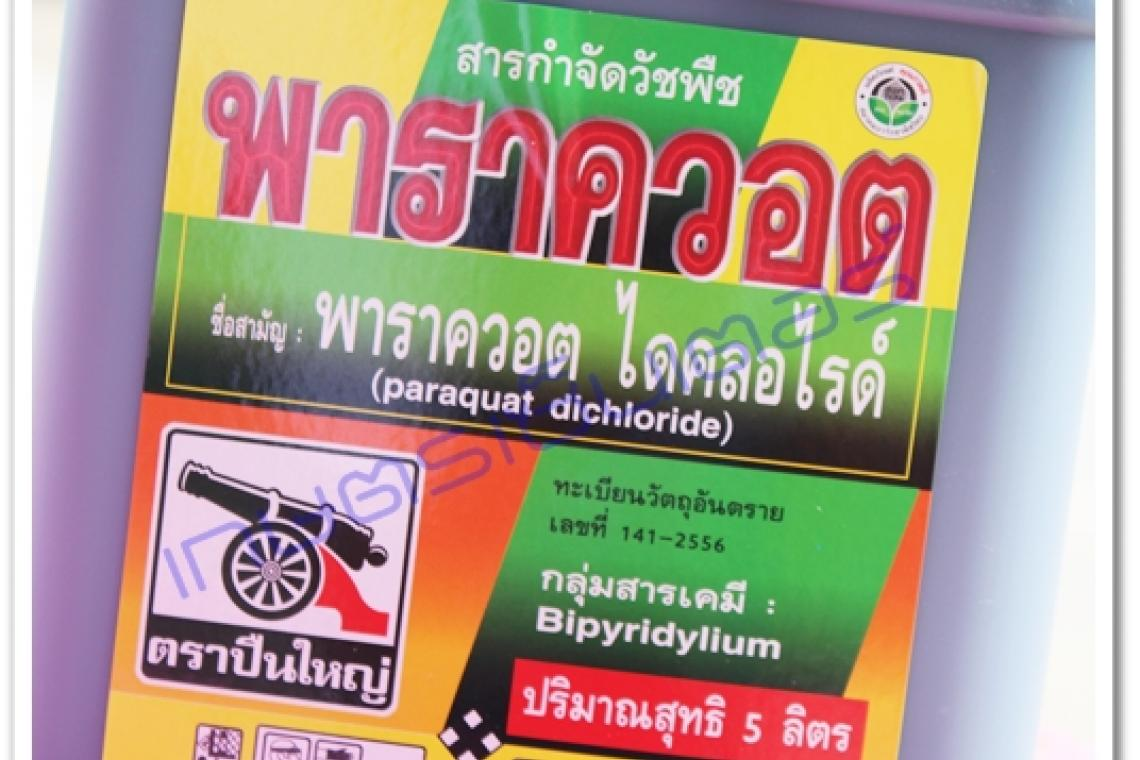Insecticide: (91, 1, 996, 760)
